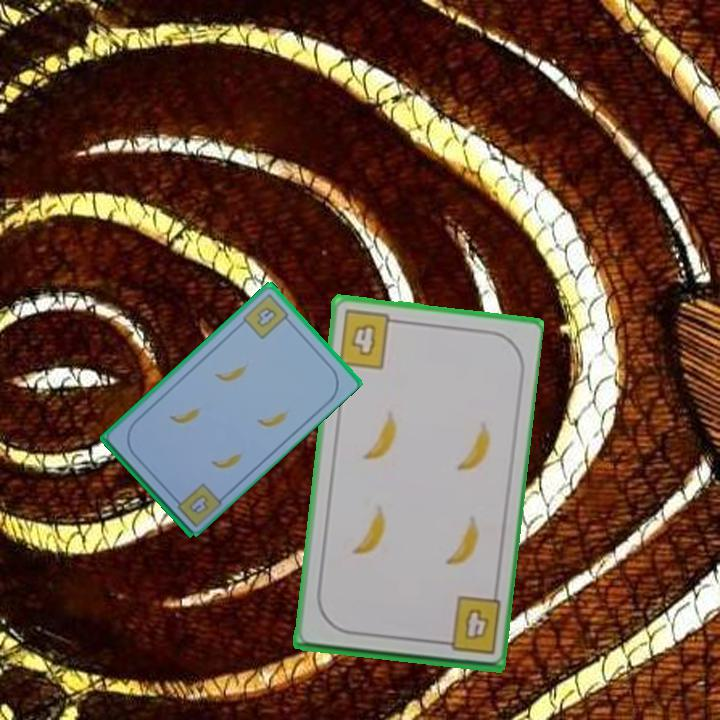4b: (433, 593, 503, 658), (335, 306, 402, 372), (239, 290, 295, 342), (185, 490, 212, 517)
